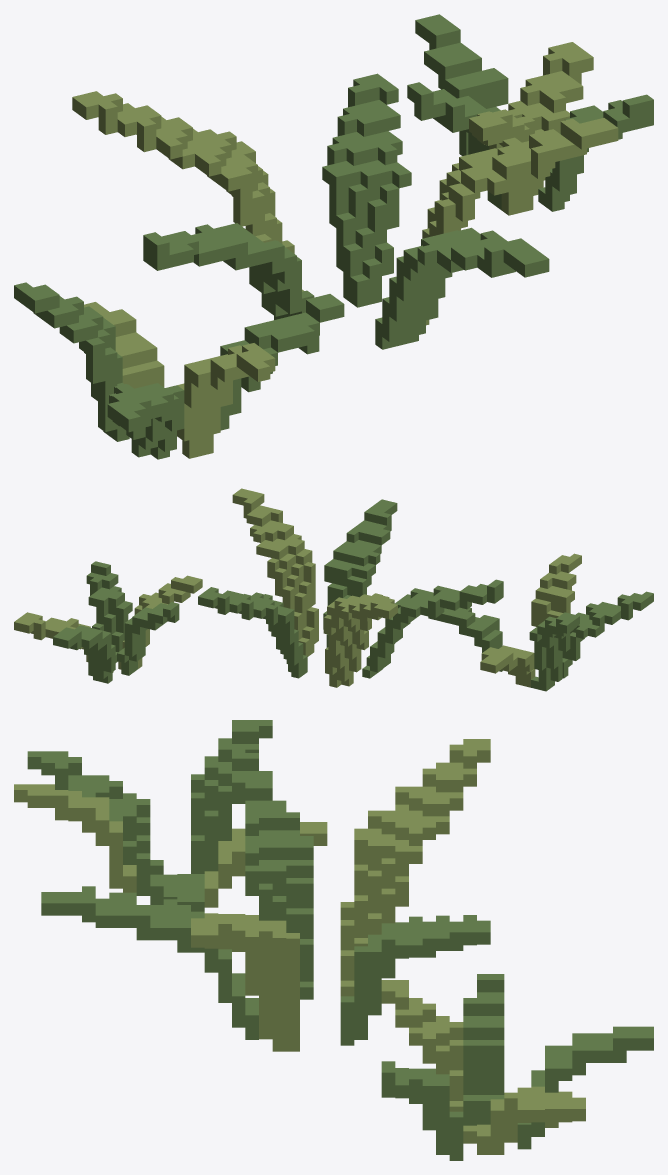
Rendered from grass_tuft_v2_species2_near.glb.
3 renders of one model, top to bottom at view 1: azimuth 30°, elevation 25°; view 2: azimuth 150°, elevation 25°; view 3: azimuth 270°, elevation 25°, orthographic. The views are drawn at different scales.
Parts seen in each view (by area): view 1: grass_tuft_v2_species2_near; view 2: grass_tuft_v2_species2_near; view 3: grass_tuft_v2_species2_near.
Part boxes in pixels (x1=…): grass_tuft_v2_species2_near: x1=14, y1=14, x2=653, y2=459; grass_tuft_v2_species2_near: x1=14, y1=488, x2=653, y2=691; grass_tuft_v2_species2_near: x1=14, y1=720, x2=653, y2=1160.
Bounding box in the file's own units: 1.88 × 0.5 × 1.47.
1 material, 1 textured.
